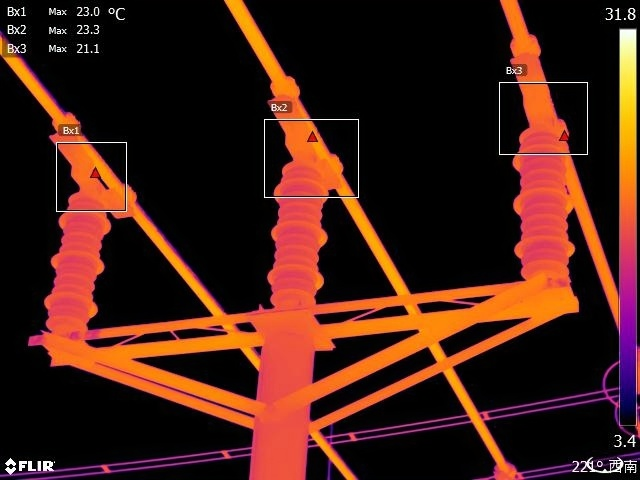post insulator: (36, 187, 121, 327), (258, 161, 336, 309), (511, 120, 580, 281)
